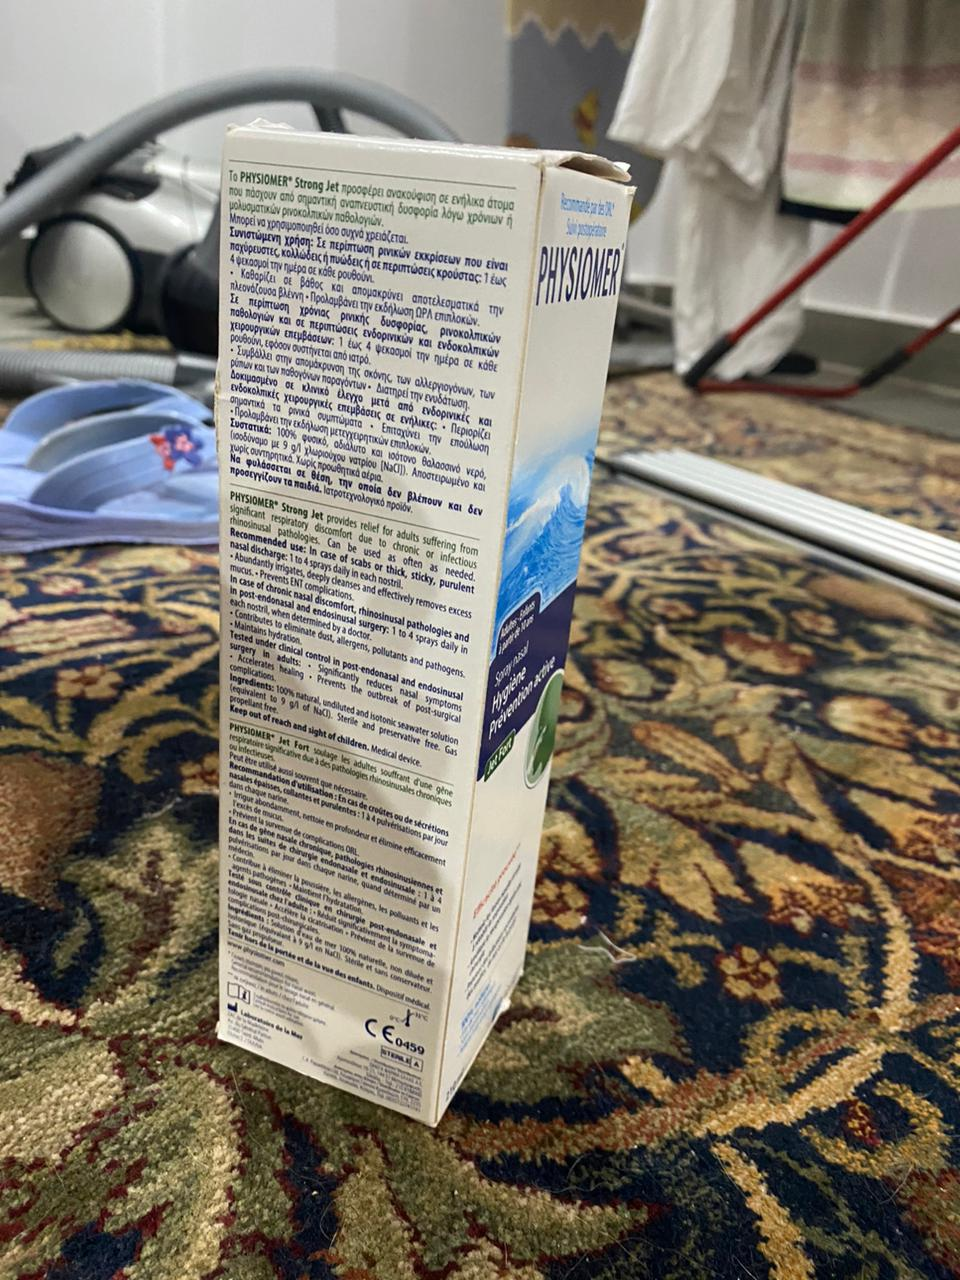Physiomer: (209, 126, 649, 1153)
